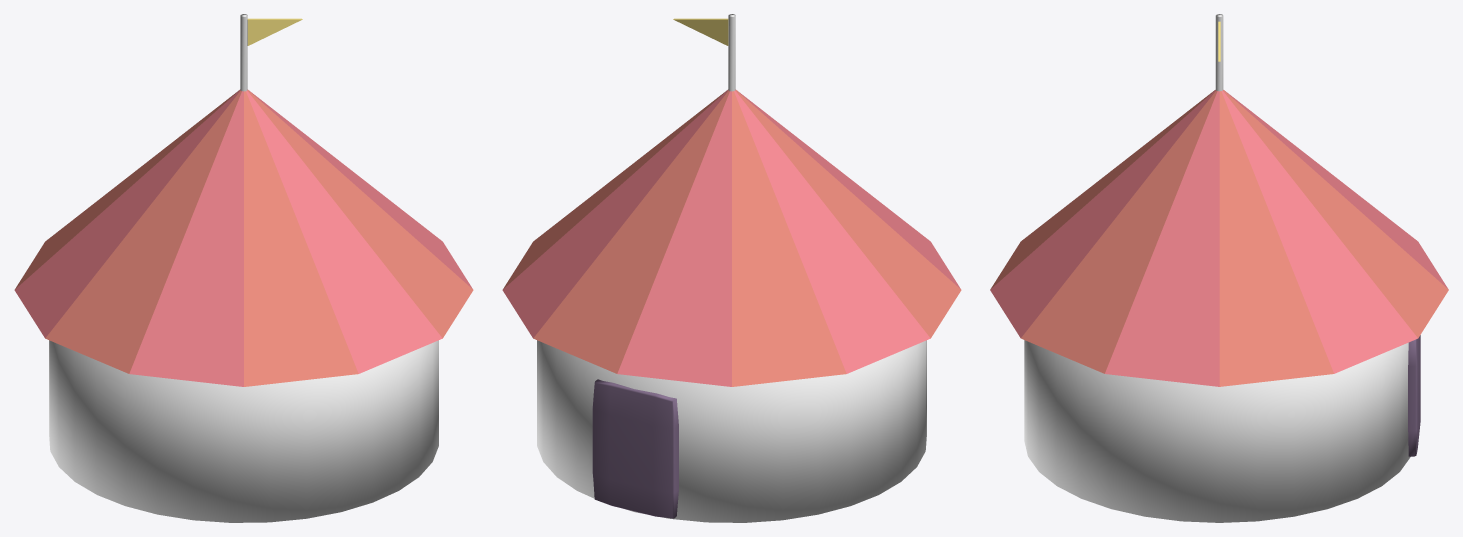
File: RockinRacewayTent.glb
3 views of the same model, side by side, from view 1: azimuth 30°, elevation 25°; view 2: azimuth 150°, elevation 25°; view 3: azimuth 270°, elevation 25° (orthographic).
Parts seen in each view (by area): view 1: Walls, Stripes, Roof, Pennant, Pole; view 2: Roof, Stripes, Walls, Door, Pennant, Pole; view 3: Walls, Stripes, Roof, Door, Pole.
Boxes of the visible parts, left/top/right/bottom form: Walls: left=49, top=340, right=438, bottom=522; Stripes: left=14, top=90, right=472, bottom=386; Roof: left=15, top=90, right=473, bottom=386; Pennant: left=247, top=18, right=302, bottom=45; Pole: left=240, top=14, right=247, bottom=91; Roof: left=503, top=90, right=961, bottom=386; Stripes: left=502, top=90, right=960, bottom=386; Walls: left=537, top=340, right=926, bottom=522; Door: left=592, top=379, right=678, bottom=518; Pennant: left=673, top=18, right=728, bottom=45; Pole: left=728, top=14, right=735, bottom=91; Walls: left=1024, top=340, right=1410, bottom=522; Stripes: left=990, top=90, right=1448, bottom=386; Roof: left=990, top=90, right=1448, bottom=386; Door: left=1408, top=335, right=1420, bottom=456; Pole: left=1215, top=14, right=1223, bottom=91.
Size of the model in its own units: 9.4 by 9.6 by 9.4.
